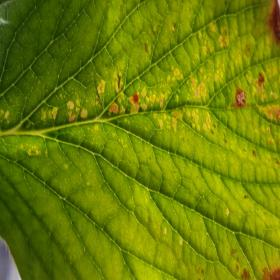Angular Leafspot: (0, 0, 279, 279)
